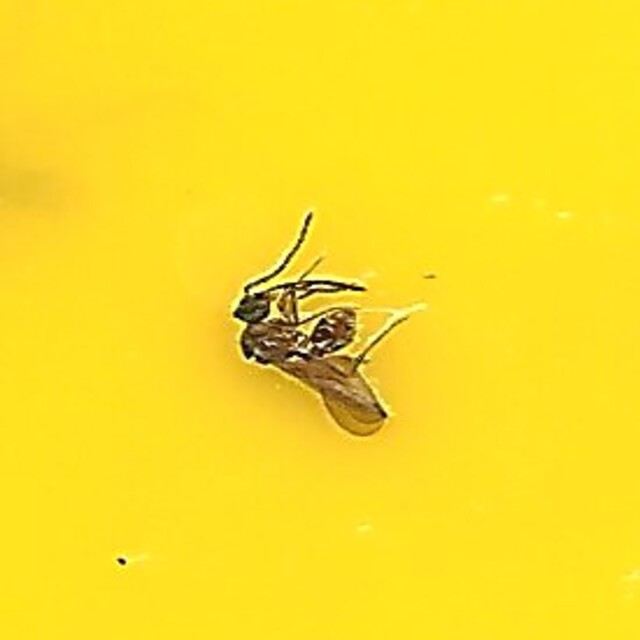Hymenoptera: (233, 208, 407, 432)
